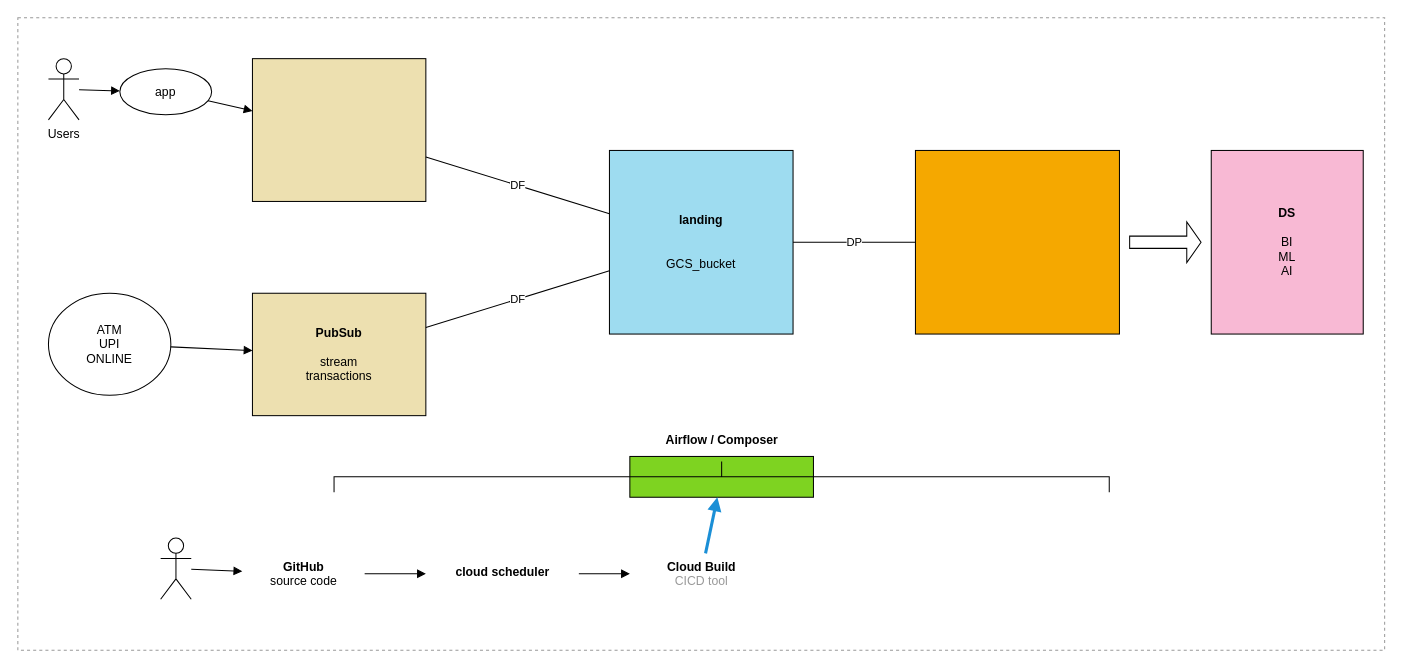
Some shapes in this 1403 by 668 pixel diagram are drawn without their labels. Here are the shapes that lost their labels. From the top down, the centre of each, then its label:
At [338,129]: "Cloud SQL customers accounts transactions".
At [1016,241]: "analytics BigQuery Brz --> Sil --> Gld".
At [721,476]: "Orchestration".
